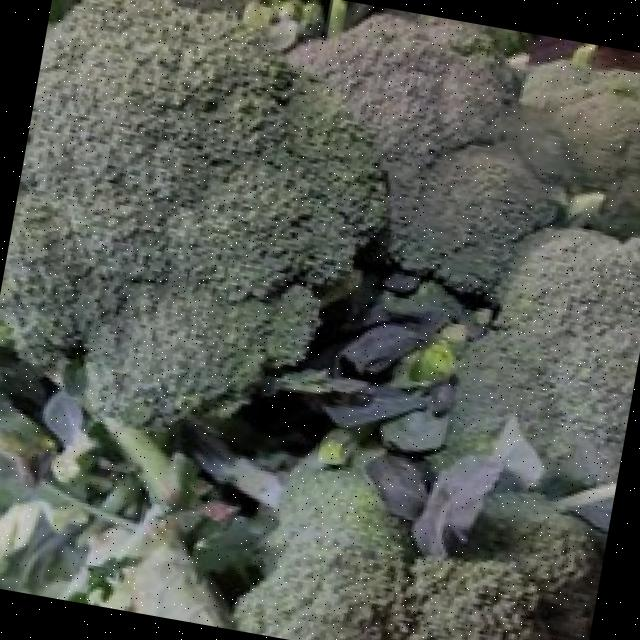Broccoli: (0, 0, 385, 427), (0, 0, 385, 427), (286, 14, 563, 290), (286, 13, 562, 290), (234, 468, 603, 640), (234, 469, 602, 640), (442, 227, 640, 491), (444, 227, 640, 491), (515, 59, 640, 236), (515, 59, 640, 235)
